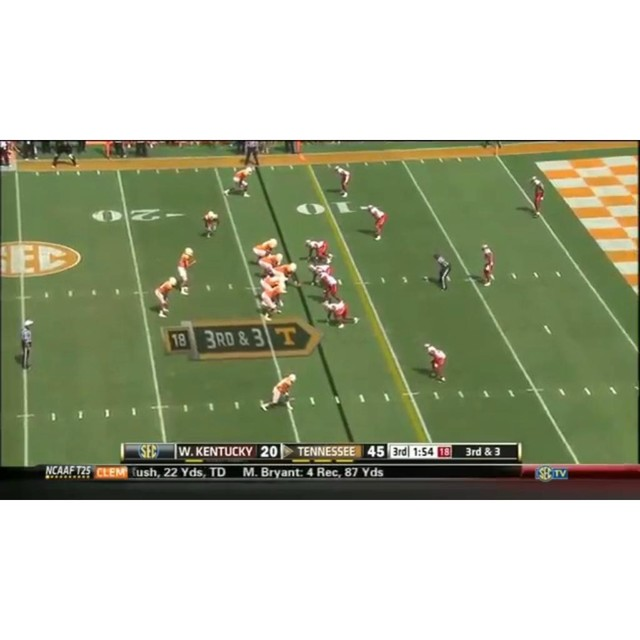american-football-player: (260, 373, 297, 412), (223, 165, 256, 198), (259, 282, 287, 320), (176, 248, 197, 295), (154, 277, 178, 317), (317, 268, 343, 304), (424, 343, 448, 382), (322, 300, 354, 329), (365, 204, 388, 241), (273, 262, 301, 289), (304, 239, 333, 265), (250, 237, 278, 262), (530, 176, 546, 217), (480, 244, 495, 286), (257, 252, 284, 275), (201, 209, 220, 238), (334, 165, 351, 197)
referee: (19, 319, 35, 370), (433, 253, 451, 292)
